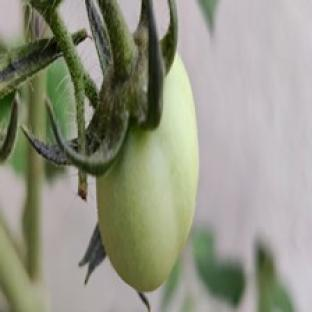Tomato: (97, 56, 199, 291)
